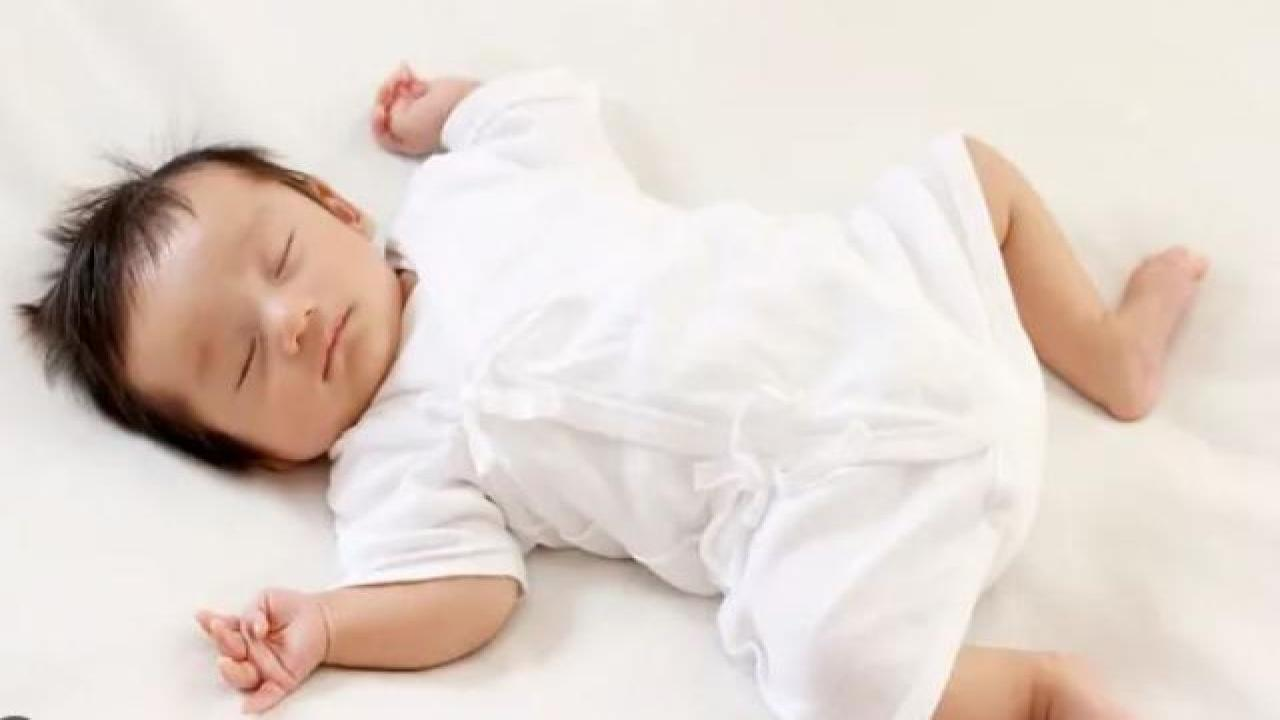hand: (185, 579, 343, 720), (362, 55, 492, 164)
